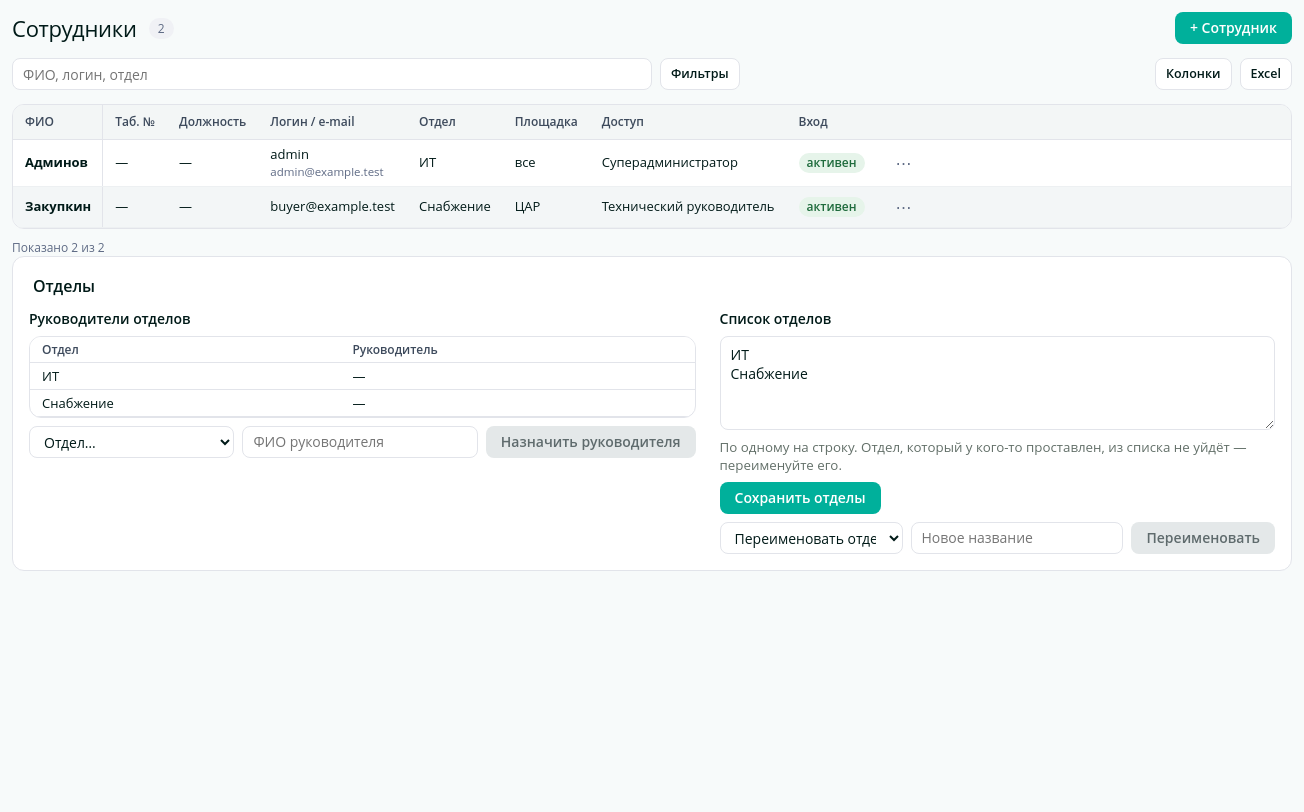
deletes an employee after confirmation and hides switched-off ones until asked
This screenshot has width=1304, height=812.
What coordinates should you click on to do the following:
click the button named "Действия: Закупкин"
I would click on:
 (904, 207)
Its box is [888,193,918,221].
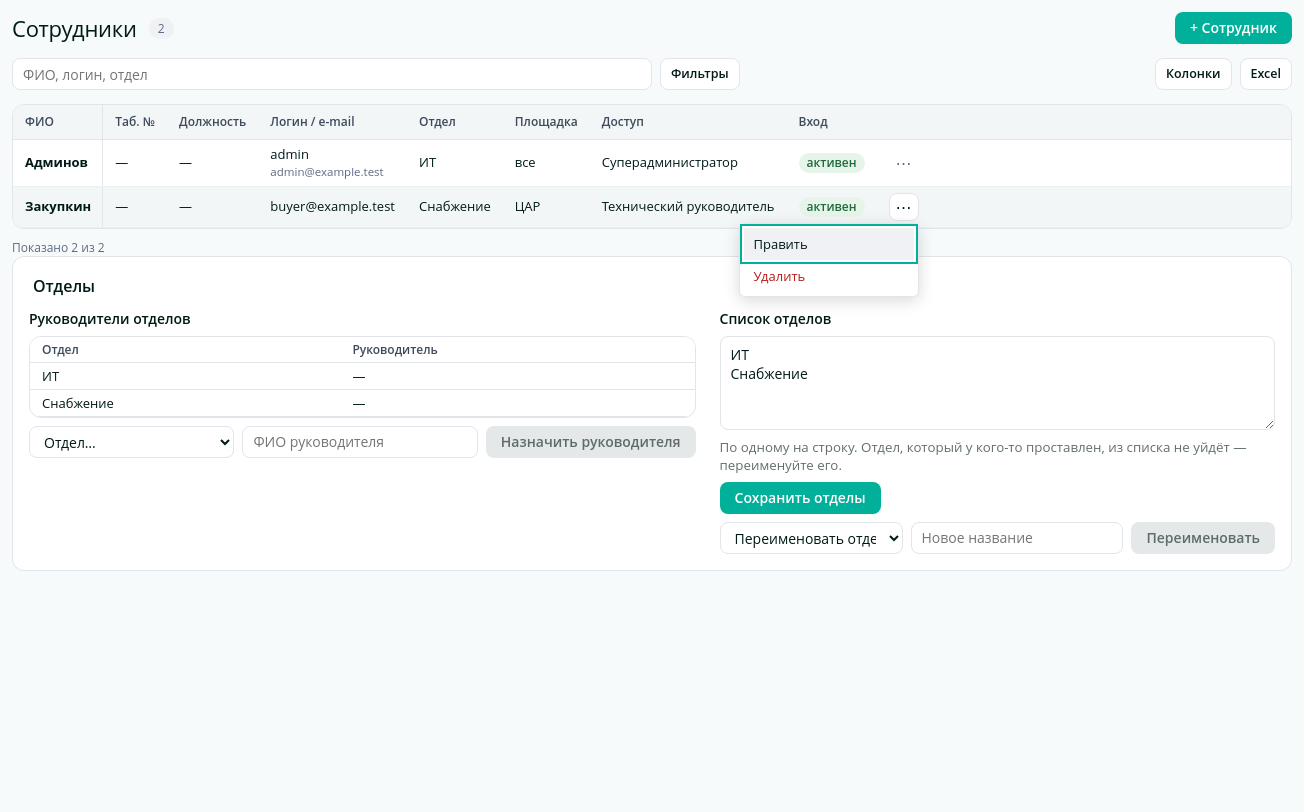
What coordinates should you click on to do the following:
click the menu item "Удалить"
I would click on:
 (828, 276)
Its box is [744,260,914,292].
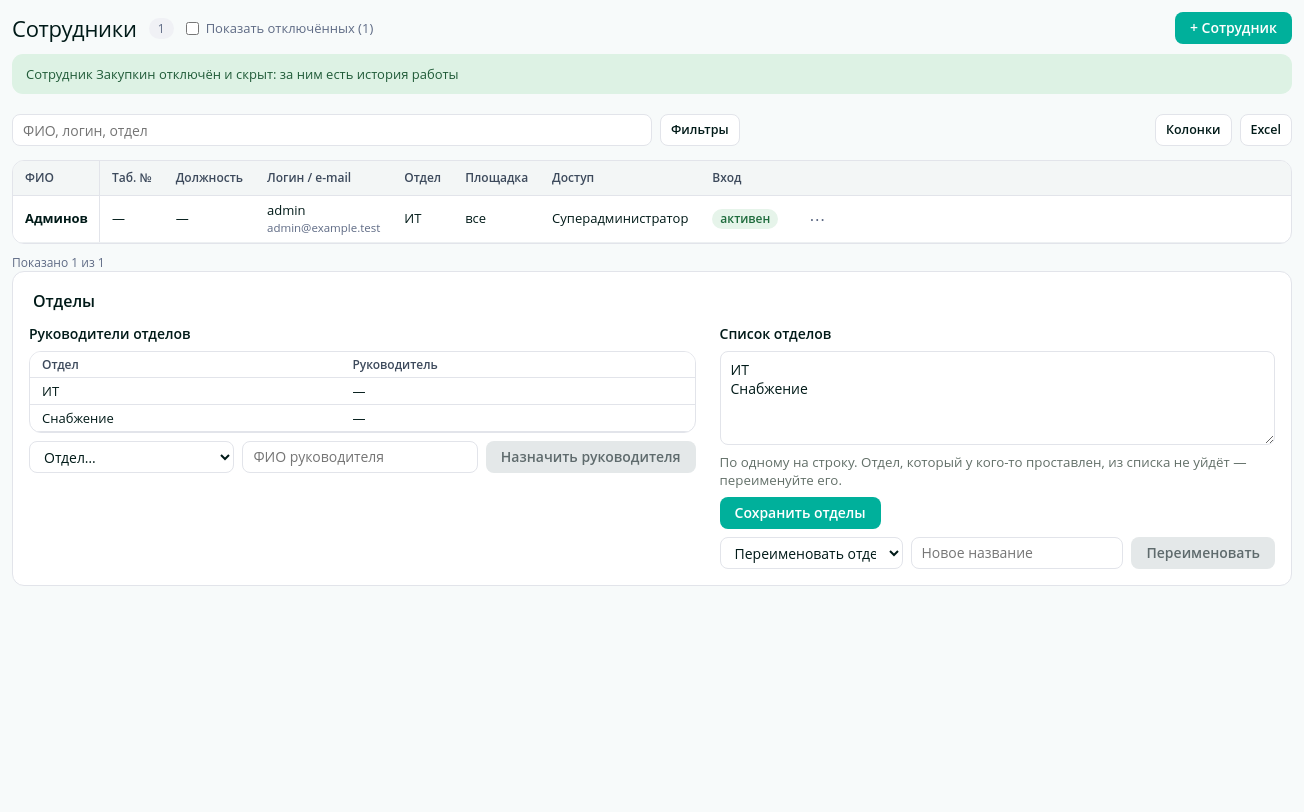
Expected: the text "Сотрудник Закупкин отключён и скрыт: за ним есть история работы" is shown, [12,54,1292,94]
What coordinates should you click on to do the following:
click the checkbox labelled "Показать отключённых (1)"
I would click on:
 (192, 28)
Its box is [186,22,199,34].
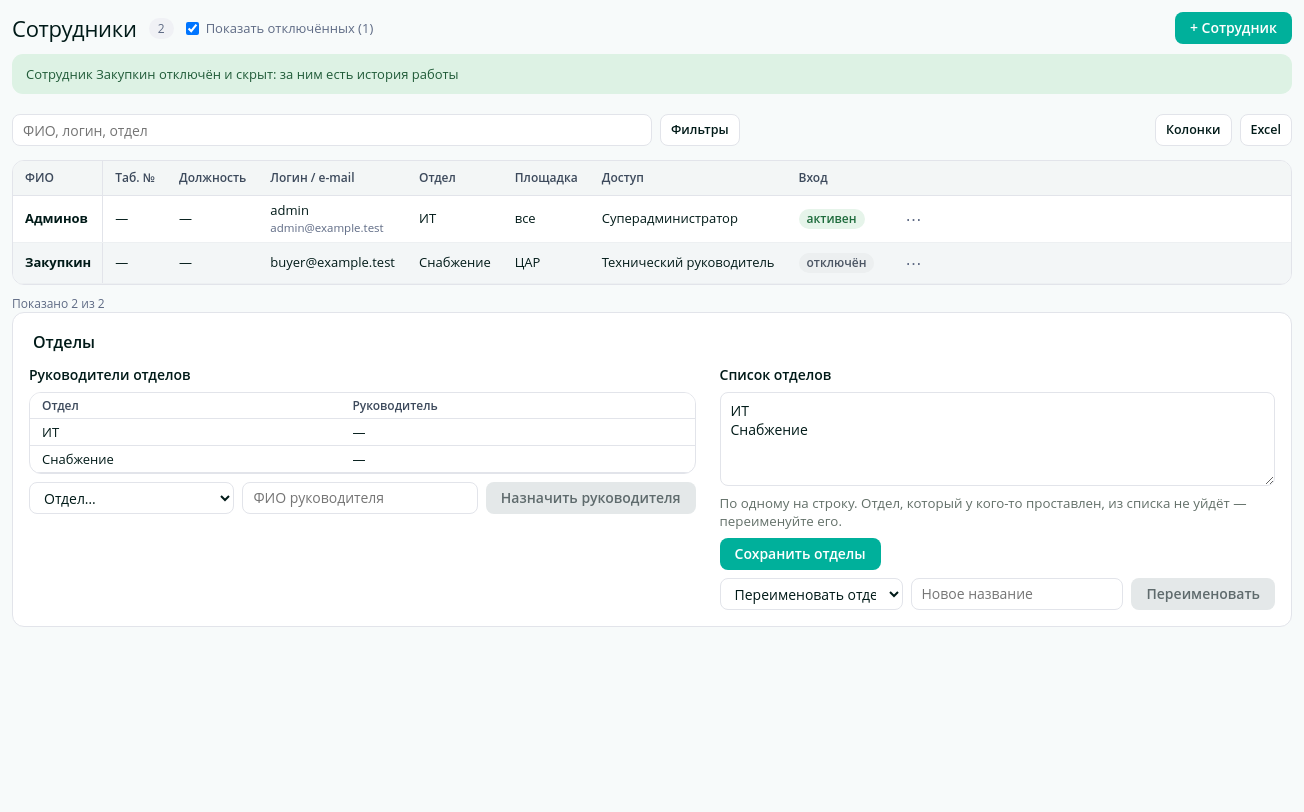
Expected: the text "Закупкин" is shown, [25,254,91,271]
